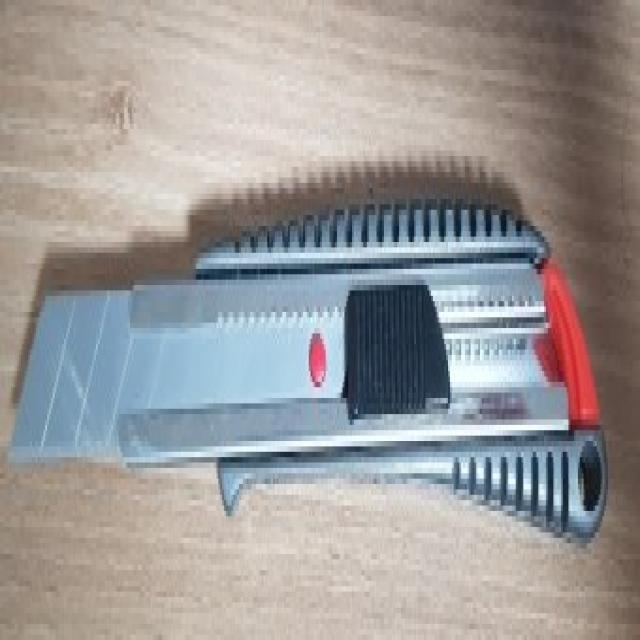cutter: (2, 168, 610, 566)
